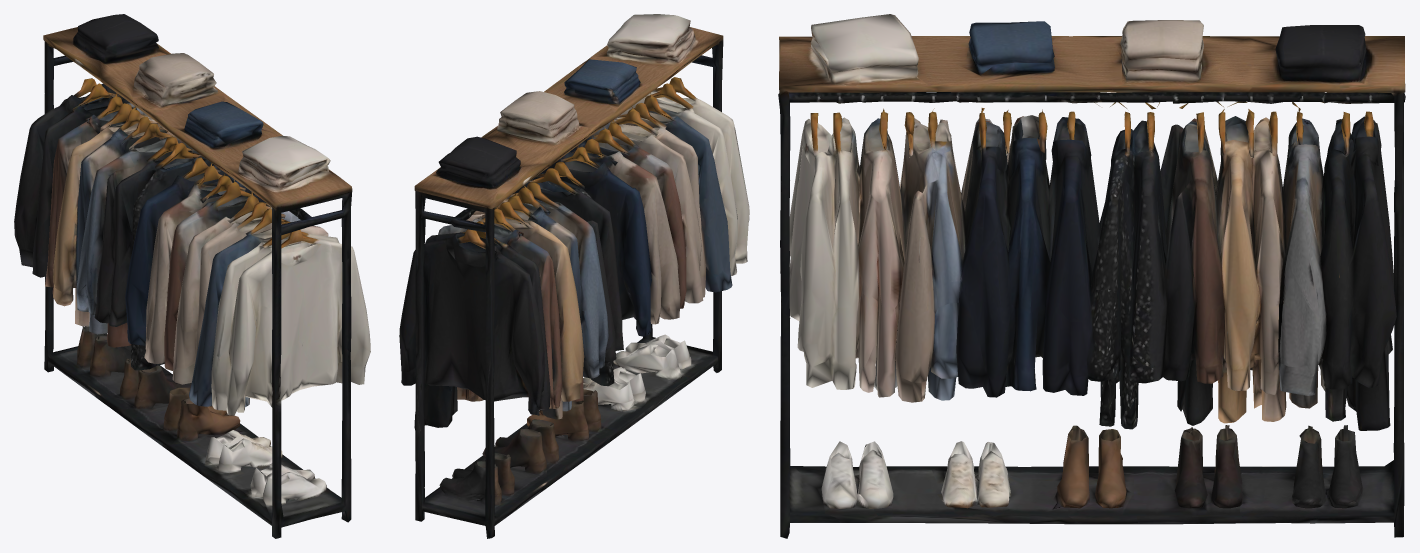
Rendered from clothrail.glb.
3 renders of one model, left to right at view 1: azimuth 30°, elevation 25°; view 2: azimuth 150°, elevation 25°; view 3: azimuth 270°, elevation 25°, orthographic. The views are drawn at different scales.
Parts seen in each view (by area): view 1: tripo_node_c77b2e2e-3d52-4b21-924a-4841dd4a9c13; view 2: tripo_node_c77b2e2e-3d52-4b21-924a-4841dd4a9c13; view 3: tripo_node_c77b2e2e-3d52-4b21-924a-4841dd4a9c13.
Boxes of the visible parts, x1=… form: tripo_node_c77b2e2e-3d52-4b21-924a-4841dd4a9c13: x1=14, y1=14, x2=370, y2=538; tripo_node_c77b2e2e-3d52-4b21-924a-4841dd4a9c13: x1=399, y1=14, x2=749, y2=538; tripo_node_c77b2e2e-3d52-4b21-924a-4841dd4a9c13: x1=778, y1=14, x2=1405, y2=538.
Size of the model in its own units: 0.8037 by 1.8 by 2.09.
1 material, 1 textured.
